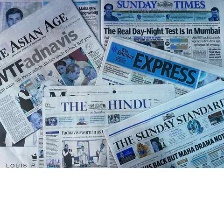news_paper: (0, 0, 106, 143), (35, 79, 171, 170), (98, 76, 223, 169), (95, 32, 224, 103), (97, 0, 224, 71), (0, 85, 99, 171)
